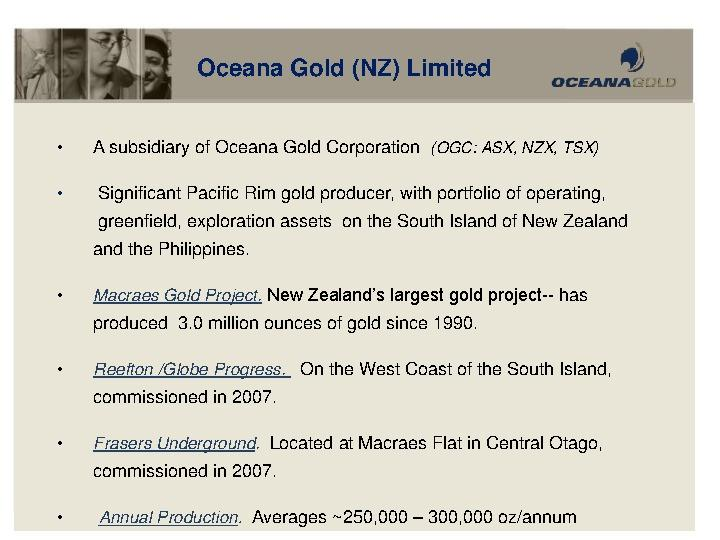paragraph: (35, 121, 655, 540)
title: (172, 36, 685, 100)
